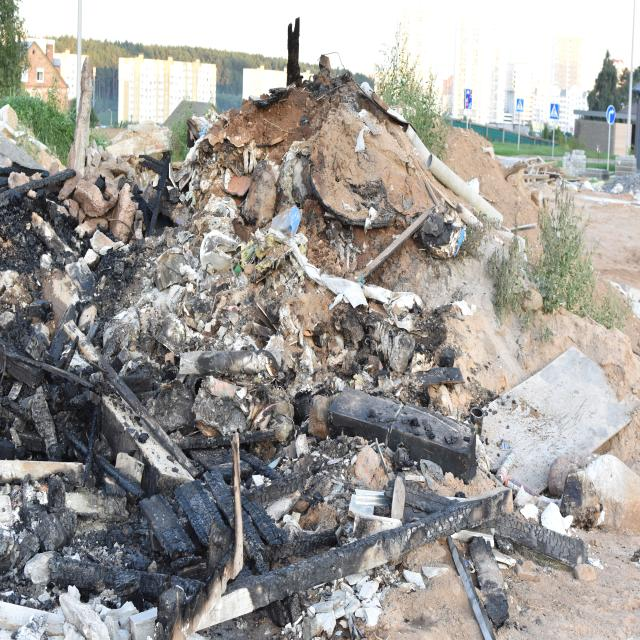entulho: (443, 331, 637, 624), (220, 425, 421, 631), (38, 307, 200, 499), (315, 380, 486, 492), (57, 157, 142, 244), (506, 155, 566, 190), (564, 148, 587, 178), (614, 156, 636, 173)
terra: (192, 70, 449, 353), (426, 122, 528, 260)
